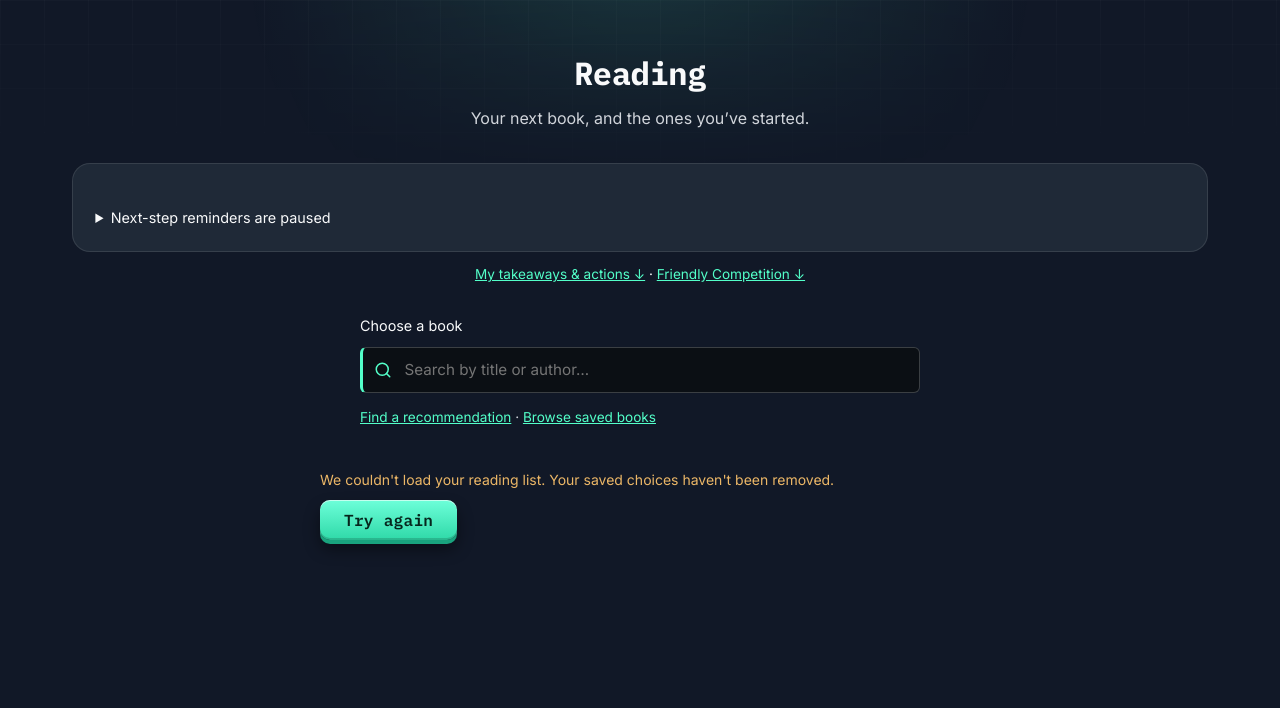
recovers the saved list after a load failure
Check: the message is shown, box [320,471,834,540]
Click the button "Try again".
click(389, 520)  # box [320,500,457,540]
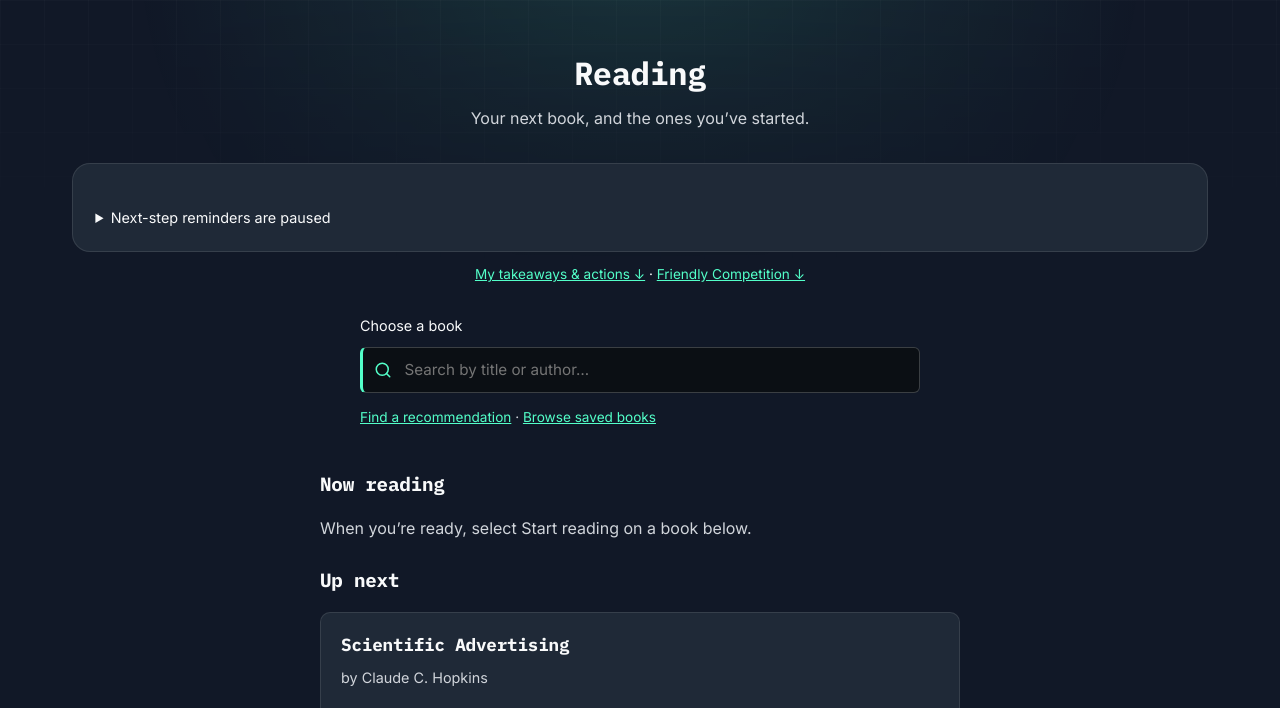
Check: the heading "Scientific Advertising" is shown, box [341,633,569,658]
